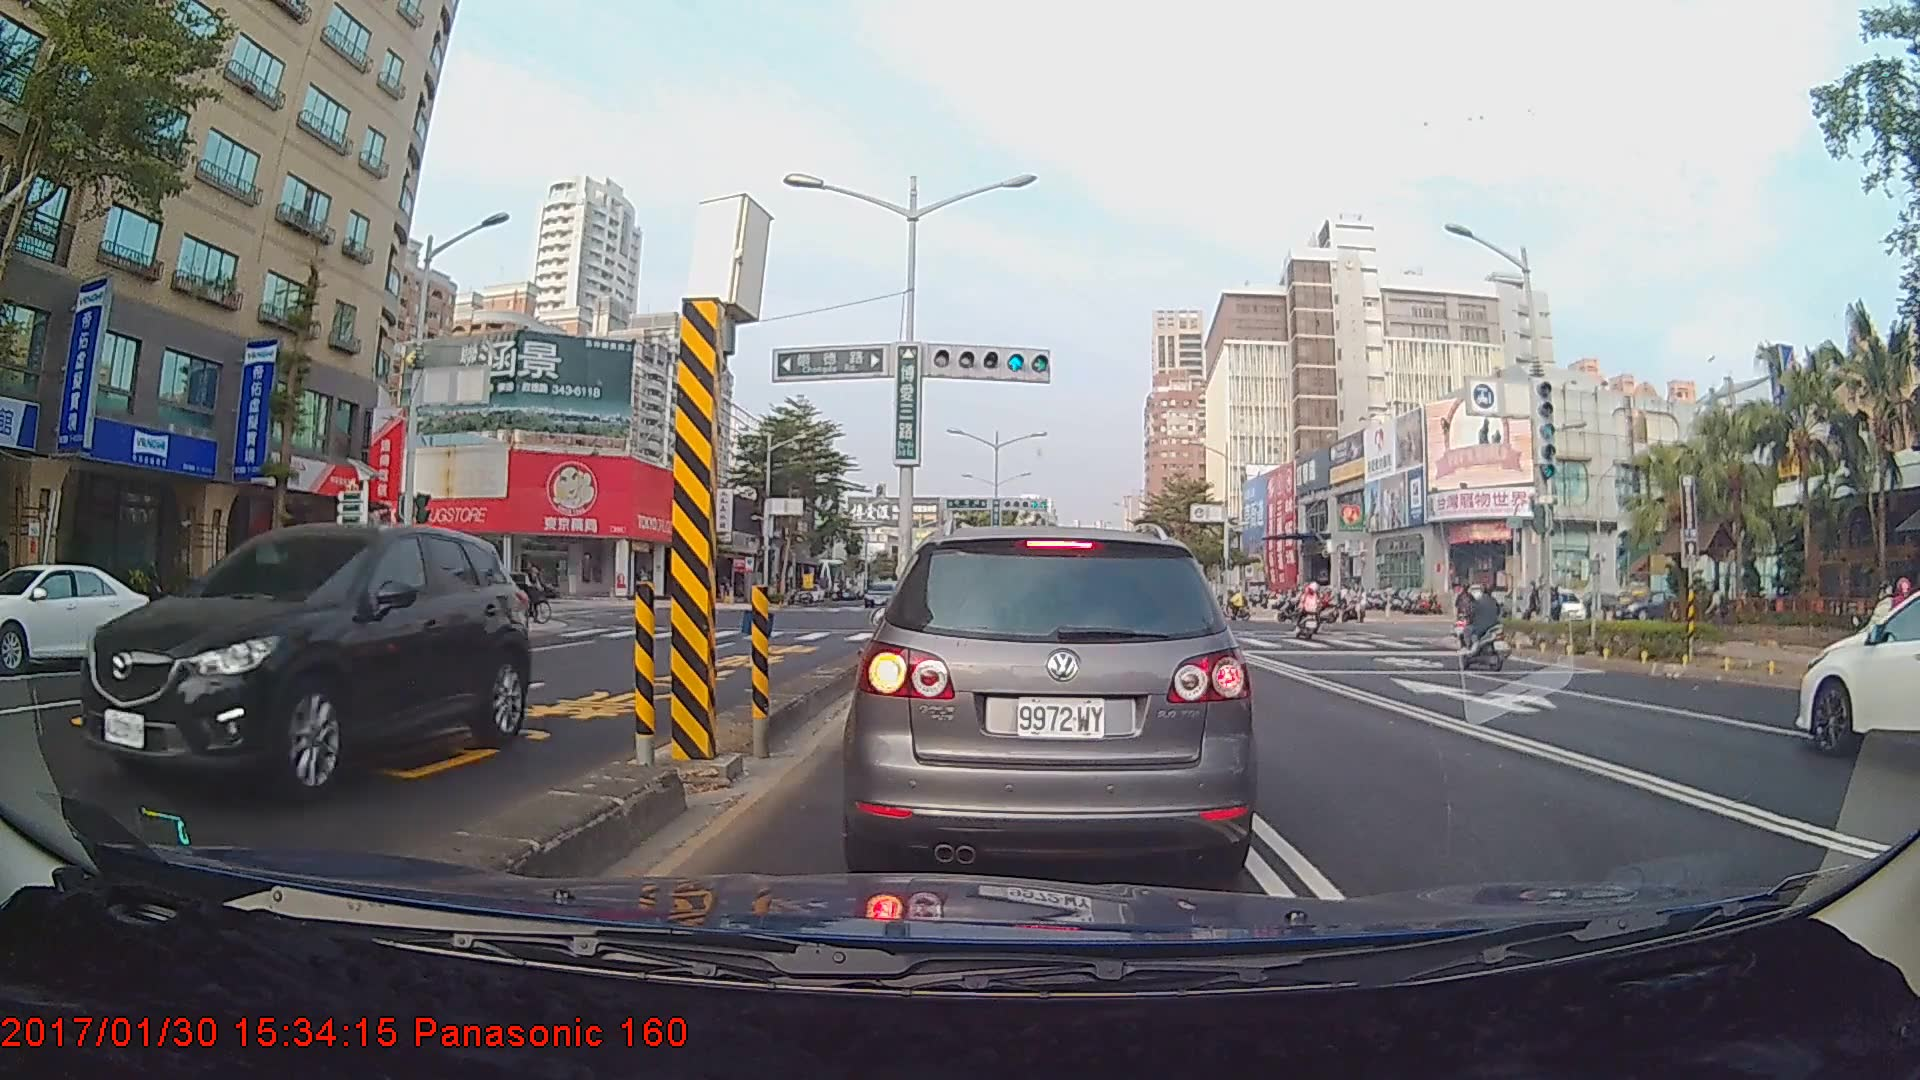pedestrian: (1708, 582, 1731, 642)
rider: (1457, 579, 1518, 673), (518, 559, 561, 629), (1292, 582, 1324, 647), (1448, 582, 1478, 646)
vehicle: (854, 520, 1249, 879), (80, 520, 532, 804), (0, 561, 158, 671)
